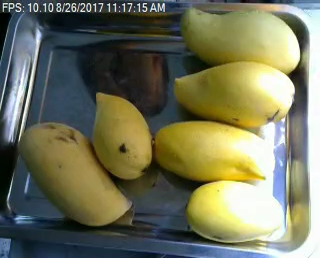Mango: (21, 121, 131, 223), (181, 6, 300, 75), (174, 63, 293, 128), (156, 121, 271, 183), (186, 181, 285, 241), (90, 90, 150, 180)
